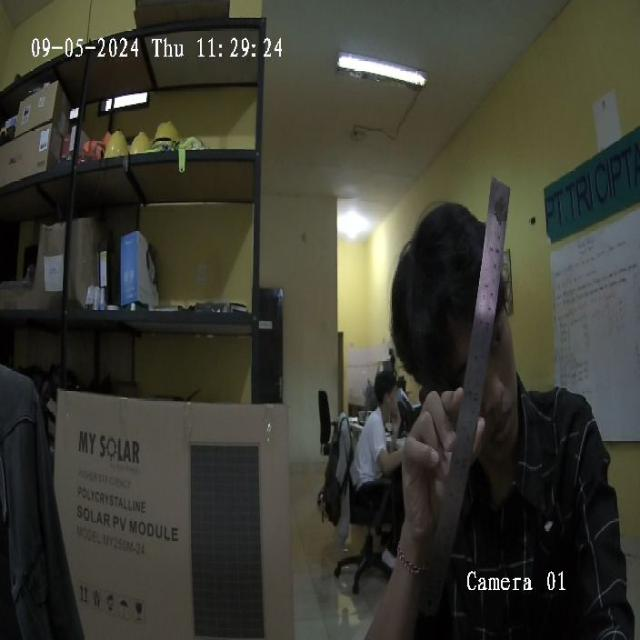Ruler: (421, 179, 509, 603)
